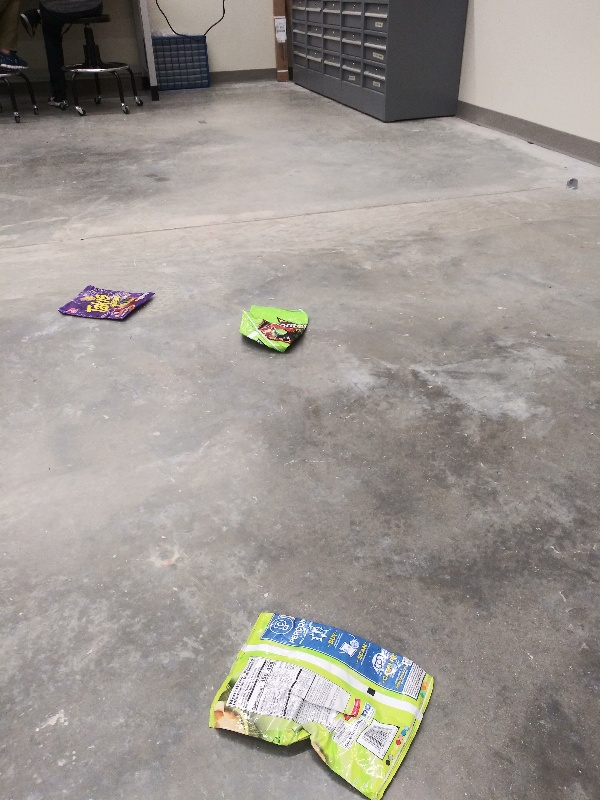bag: (204, 606, 440, 800), (56, 282, 160, 326), (235, 303, 311, 354)
